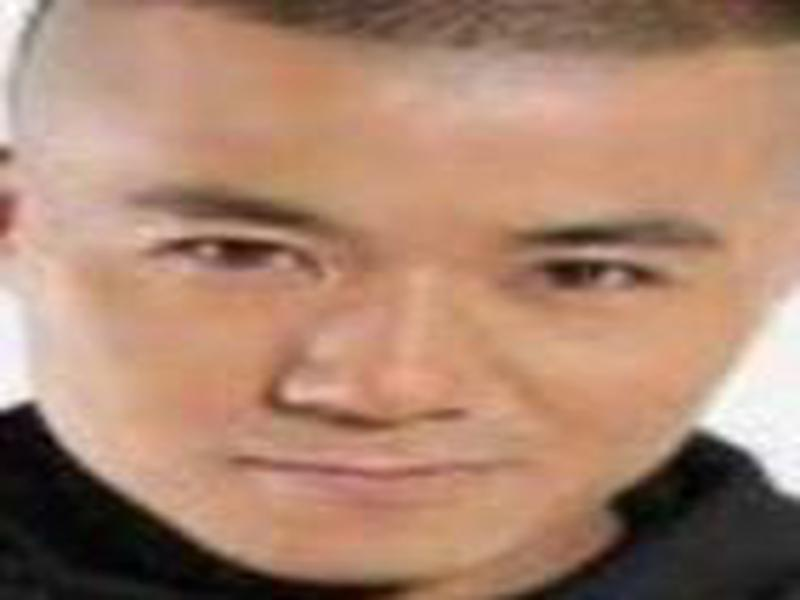without_mask: (17, 1, 791, 587)
